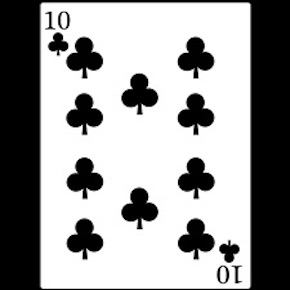TenOfClubs: (40, 4, 253, 290)
